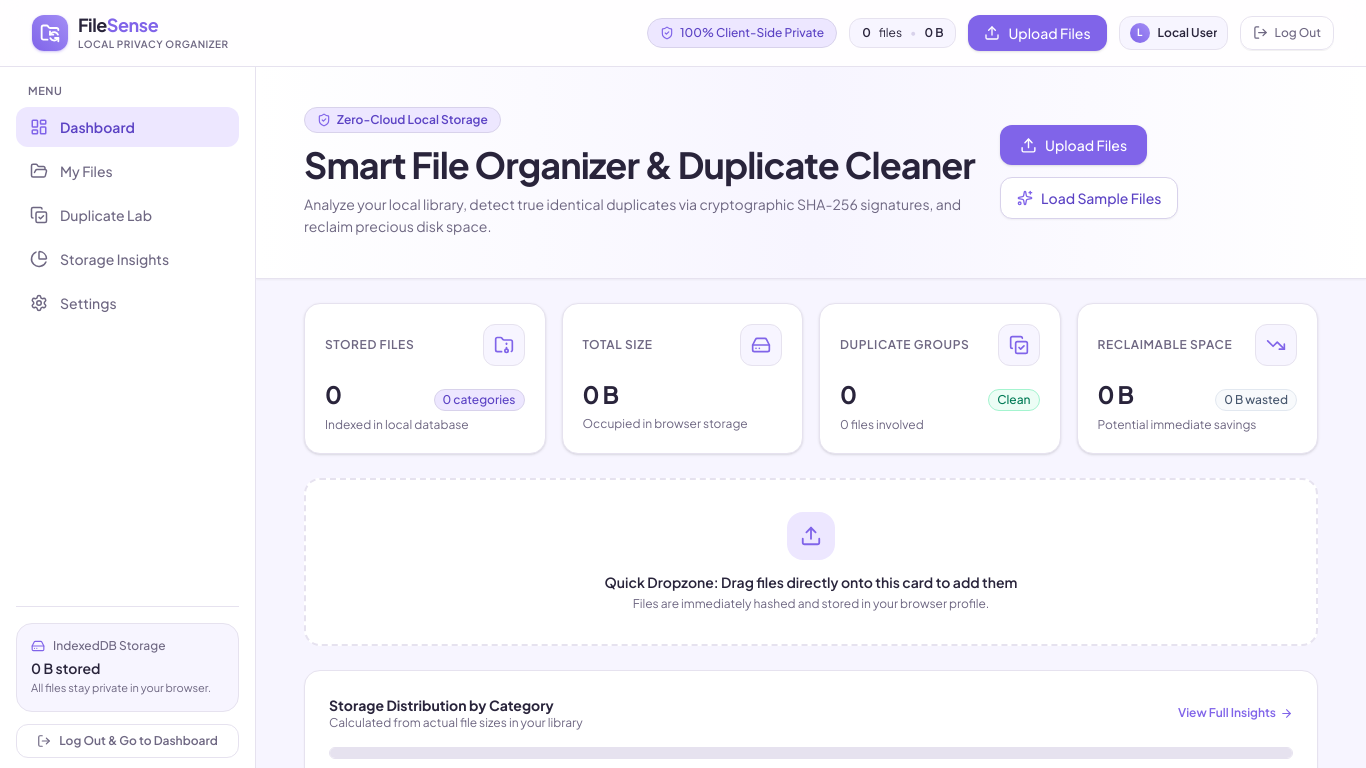
Scenario: User Interactions and App Integration › navigates across tabs correctly (My Files, Duplicate Lab, Settings)
Expected: the heading "Smart File Organizer & Duplicate Cleaner" is shown, [304,144,976,184]
Note: Navigate to Settings
Click the button "Settings" at [128, 303], box [16,283,239,323]
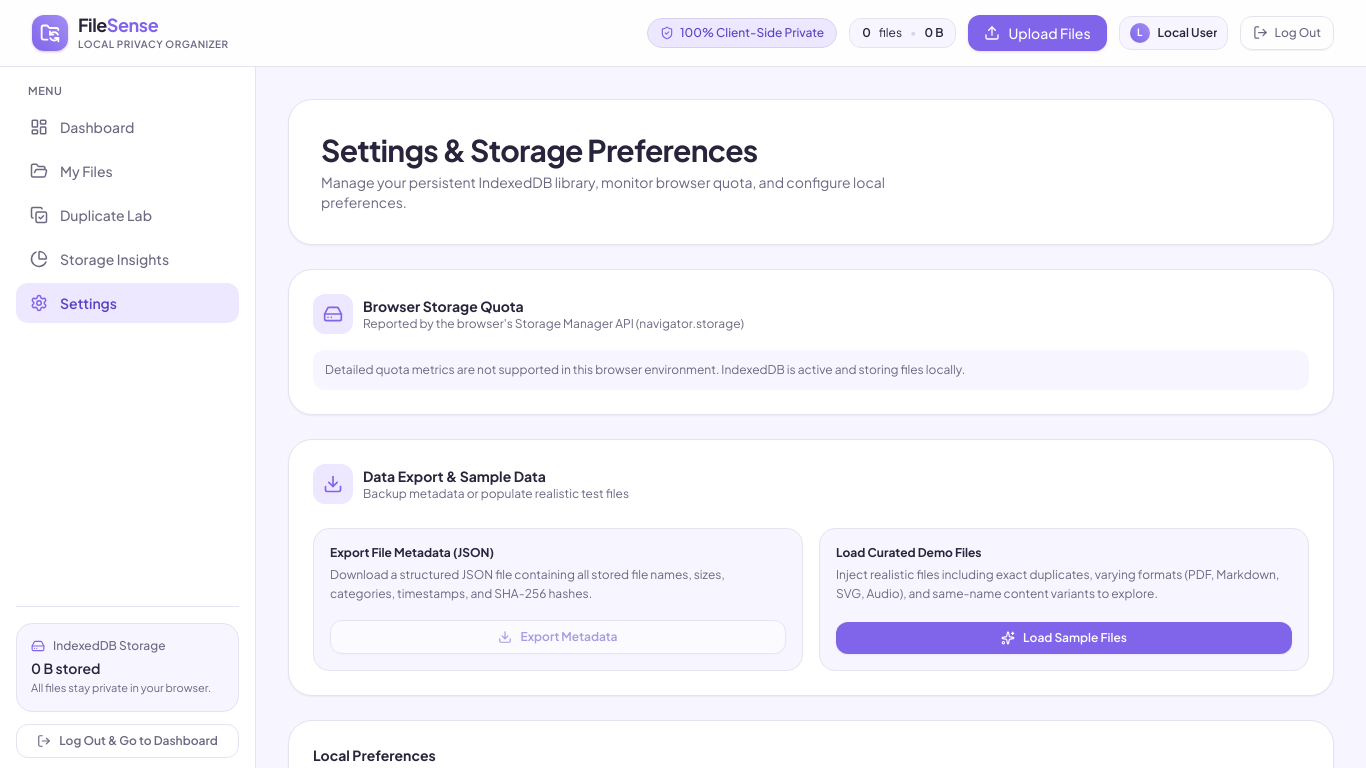
Result: the heading "Settings & Storage Preferences" is shown at [321,130,758,168]
Result: the heading "Browser Storage Quota" is shown at [363,296,524,314]
Note: Navigate to Duplicate Lab
Click the button "Duplicate Lab" at [128, 215], box [16,195,239,235]
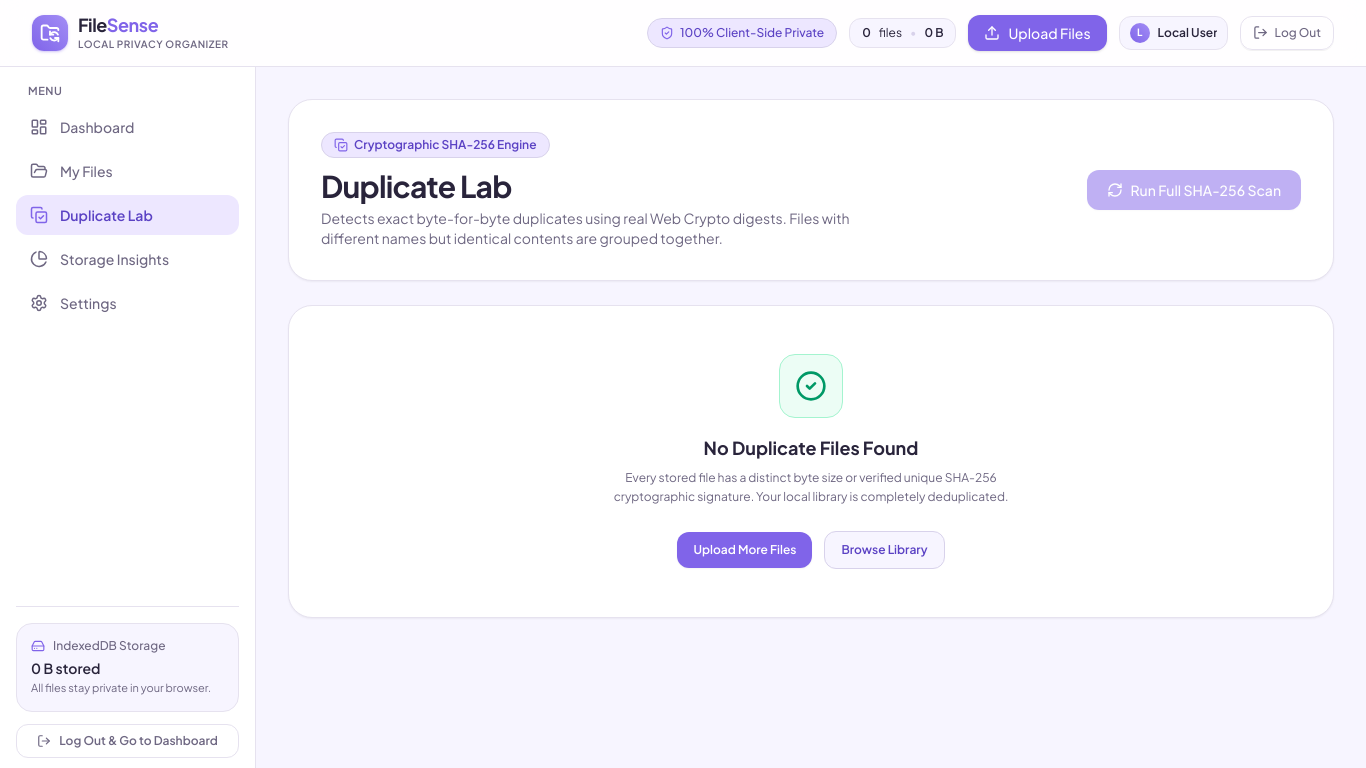
Result: the heading "Duplicate Lab" is shown at [321,166,512,204]
Note: Navigate to My Files
Click the button "My Files" at [128, 171], box [16,151,239,191]
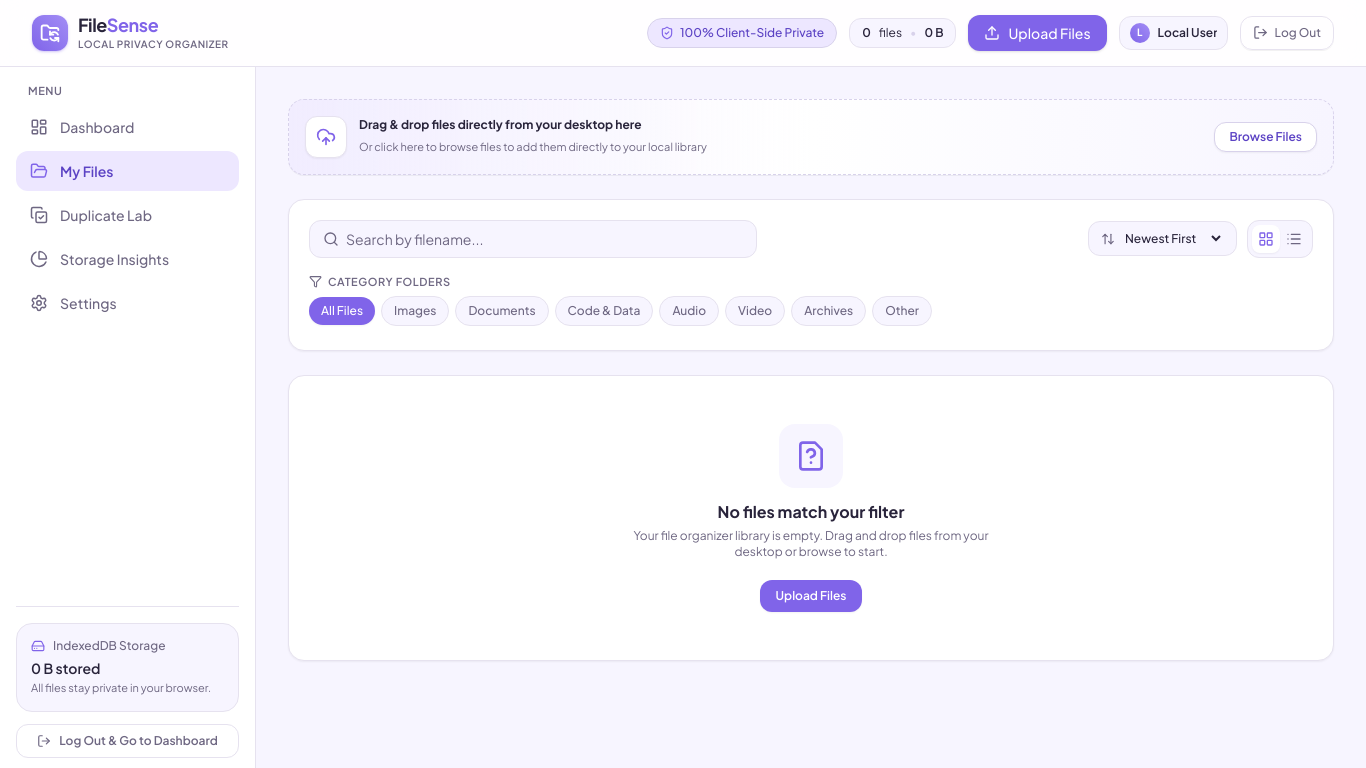
Result: the field with placeholder "Search by filename..." is shown at [309,220,757,258]
